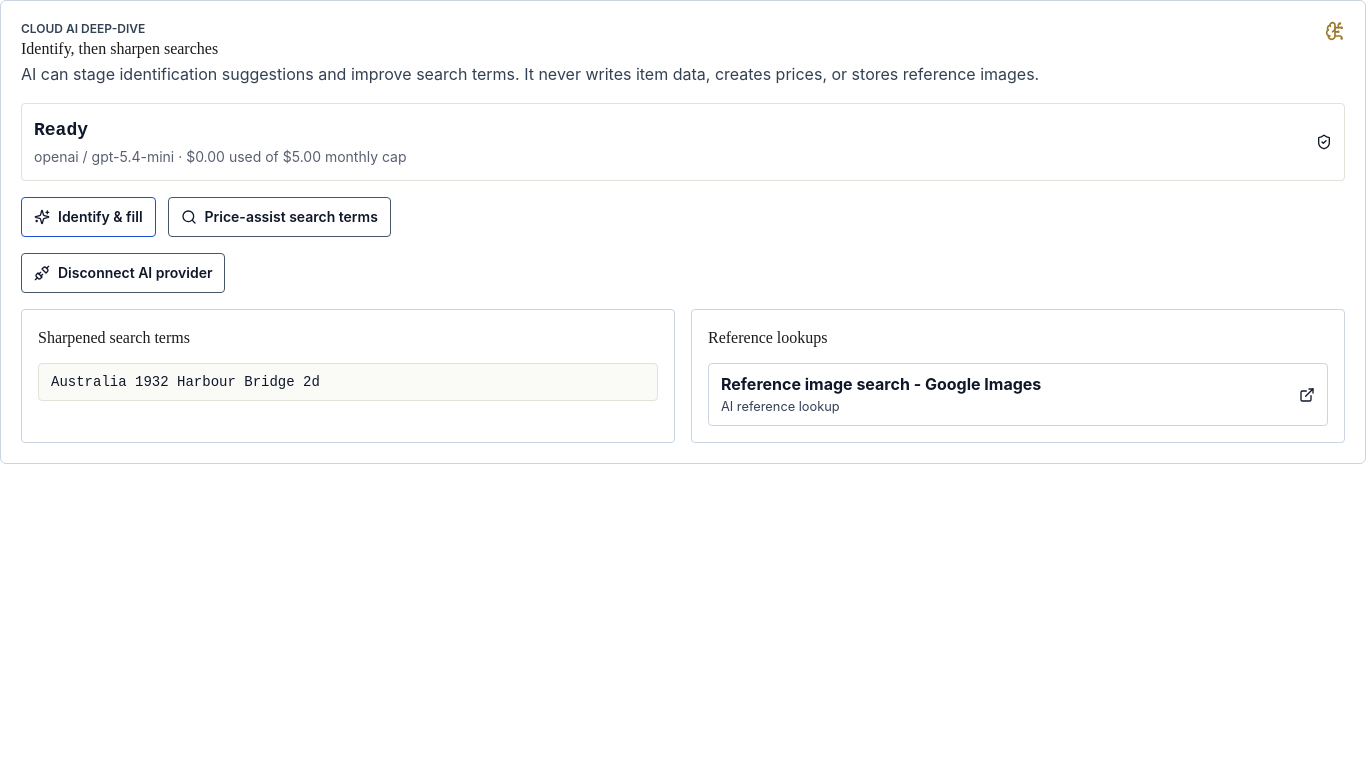
AIResearchPanel price assist does not surface price-like terms
Expected: the text "openai / gpt-5.4-mini · $0.00 used of $5.00 monthly cap" is shown, [34, 148, 407, 165]
Click the button "Price-assist search terms" at (279, 217), box [168, 197, 391, 237]
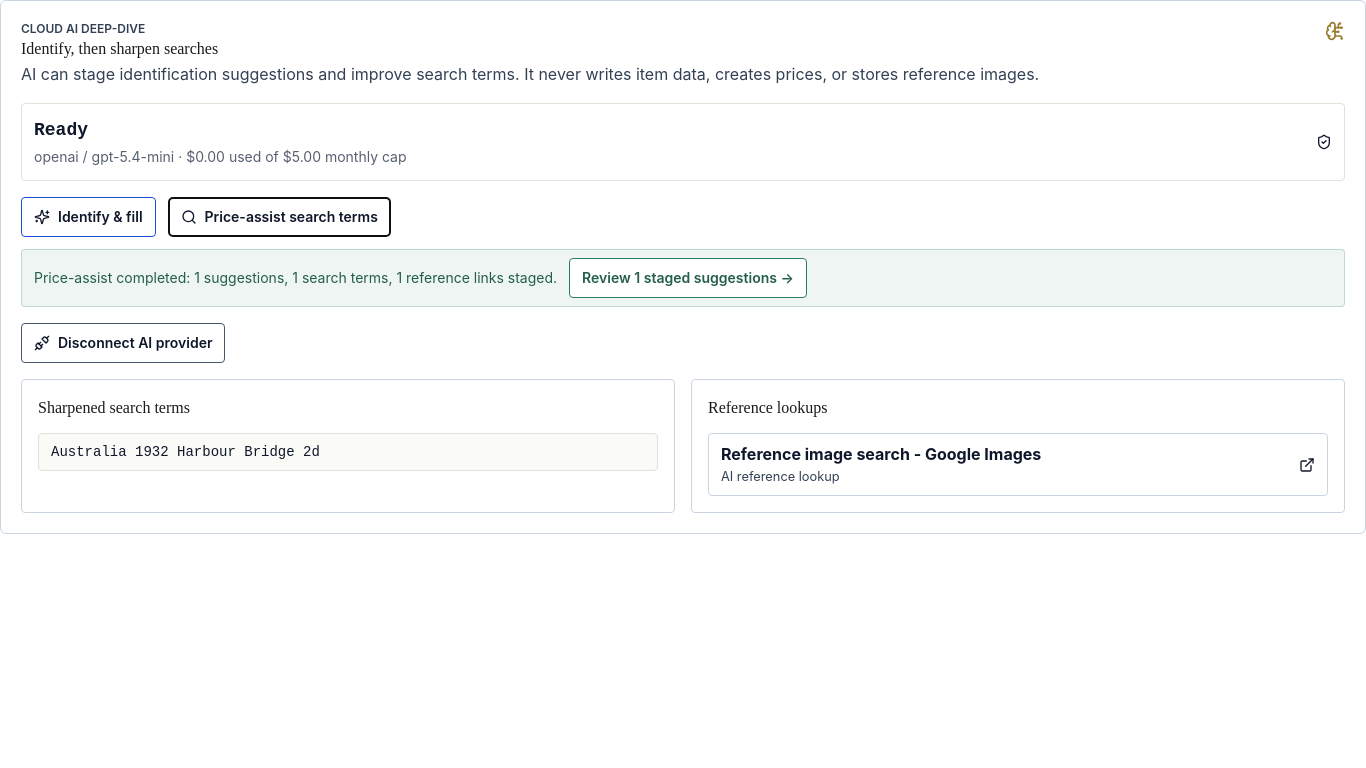
Result: the text "Price-assist completed" is shown at [34, 269, 557, 286]
